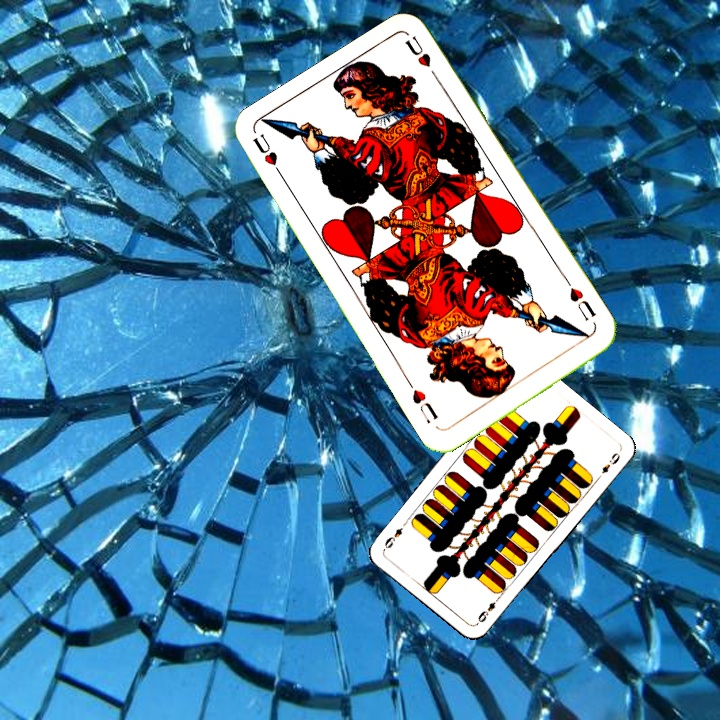E9: (473, 592, 502, 627)
HU: (249, 129, 288, 184), (565, 283, 599, 324)
